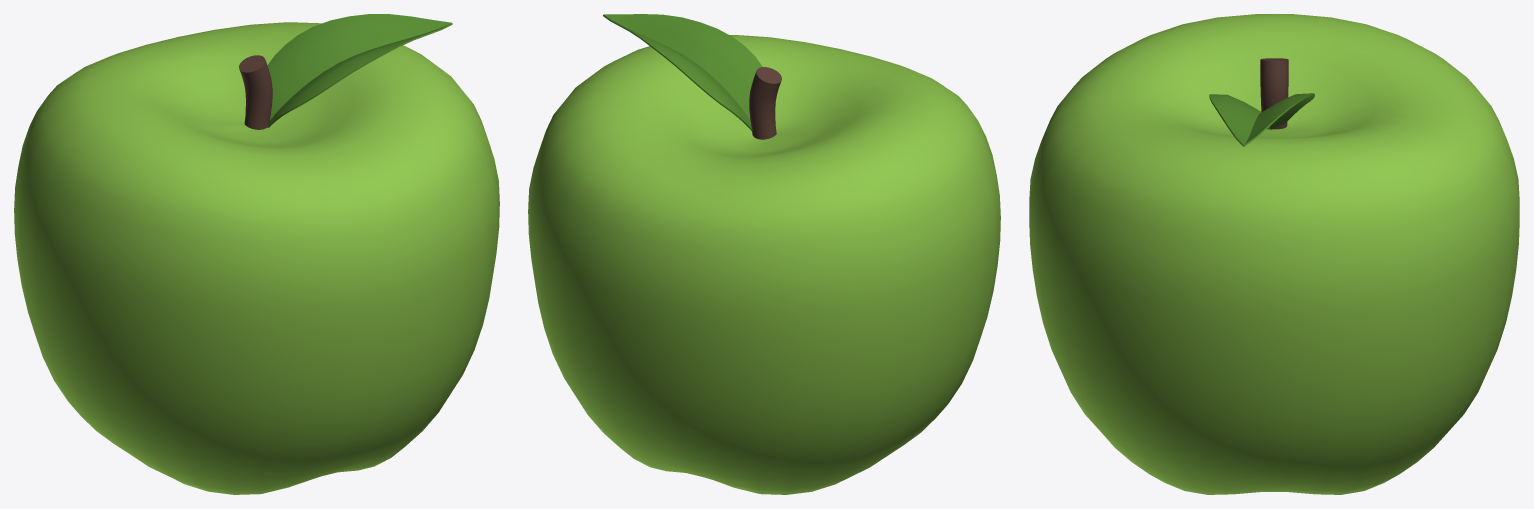
The model's file is green_apple.glb.
3 views of the same model, side by side, from view 1: azimuth 30°, elevation 25°; view 2: azimuth 150°, elevation 25°; view 3: azimuth 270°, elevation 25° (orthographic). The views are drawn at different scales.
Parts seen in each view (by area): view 1: Sphere.009; view 2: Sphere.009; view 3: Sphere.009.
Part boxes in pixels (bbox=[...]): Sphere.009: bbox=[14, 14, 499, 494]; Sphere.009: bbox=[528, 14, 1000, 494]; Sphere.009: bbox=[1029, 14, 1519, 494].
Bounding box in the file's own units: 2.12 × 1.92 × 2.1.
Materials: 1 (1 with a texture image).
